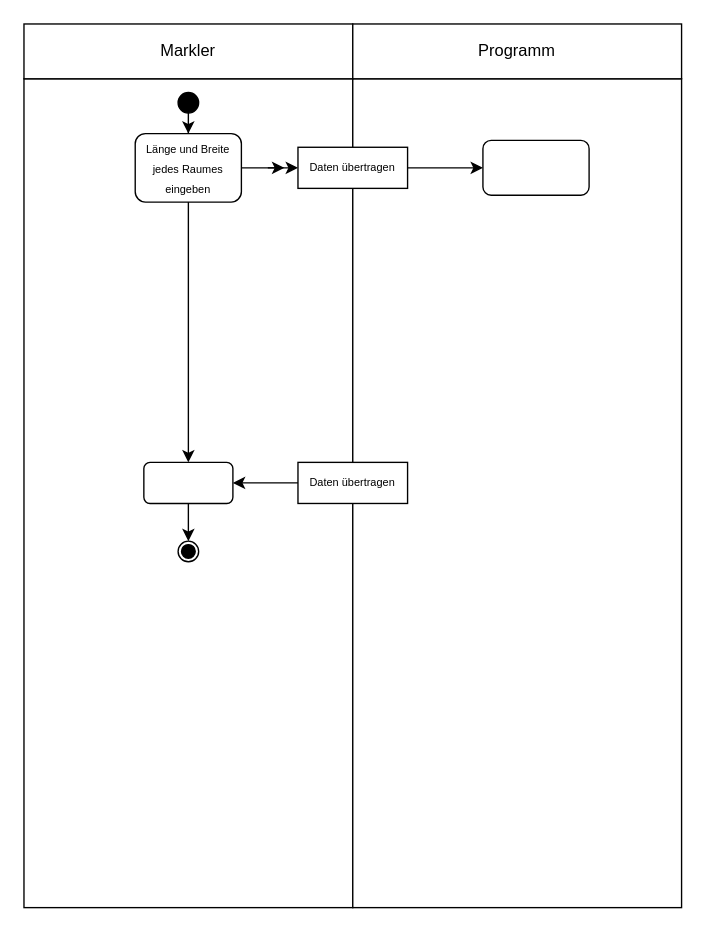
The diagram is 706 pixels wide and 932 high, and some of its shapes have lost their labels. The shapes that lost their labels are listed below. From the top down, each one's centre as x and y in pixels, then its label:
the point at 535,167: Alle Raummaße in einer liste speichern
the point at 187,482: Daten Auslesen
